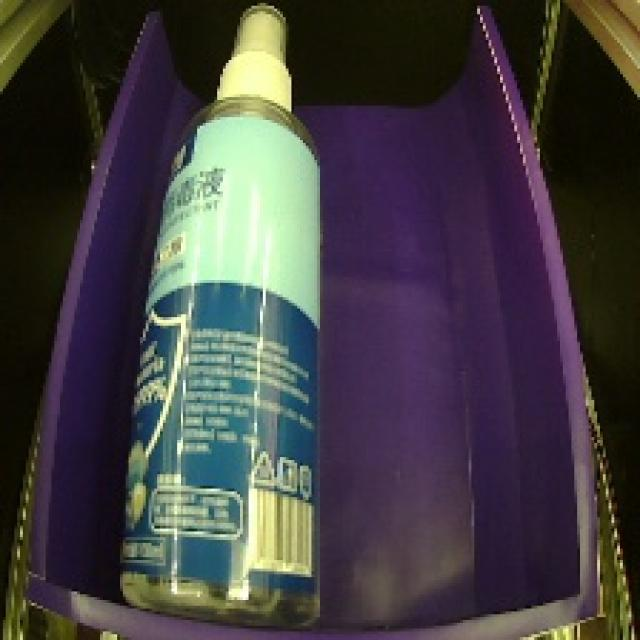plastic: (105, 0, 341, 640)
